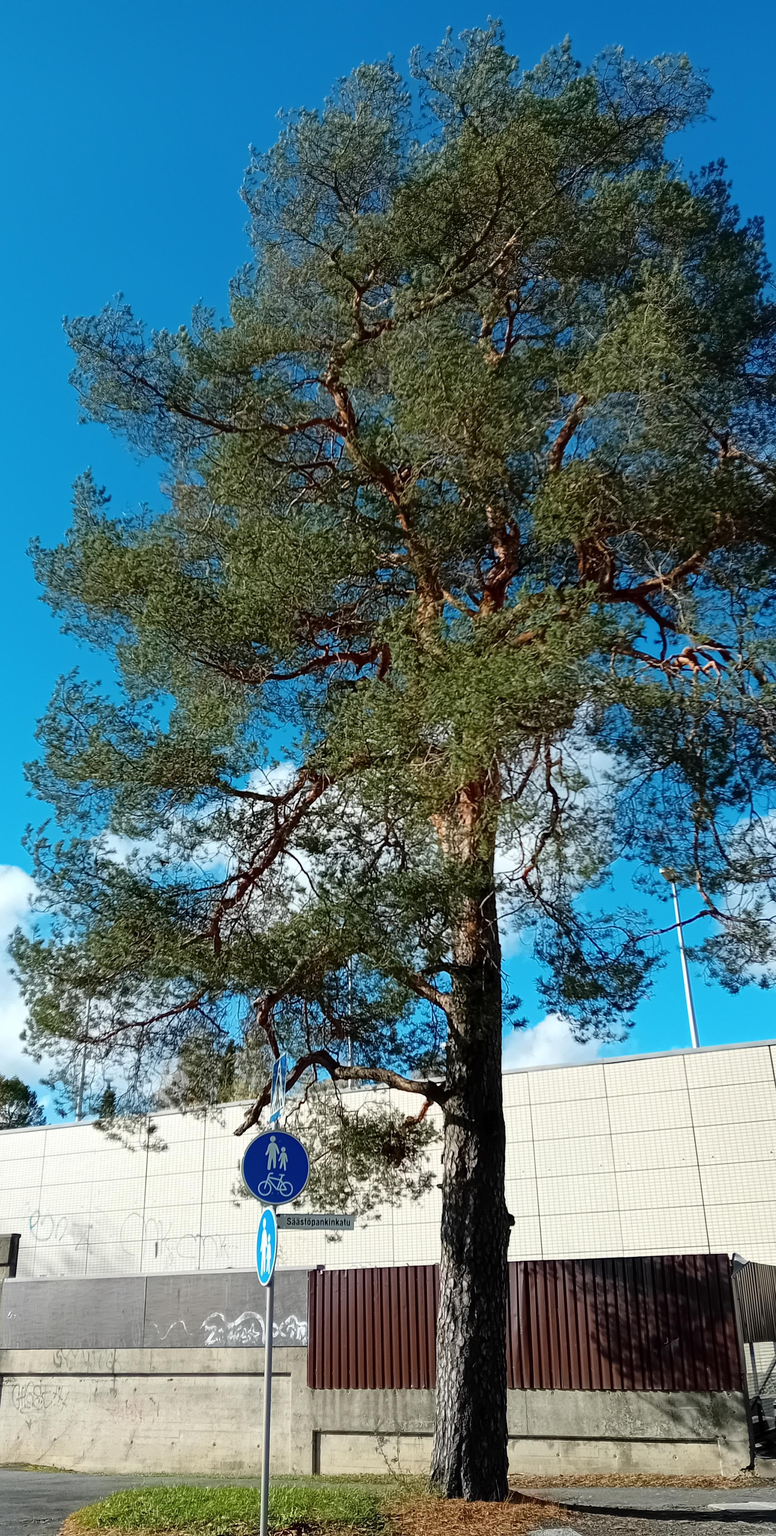Pine: (10, 14, 774, 1500)
